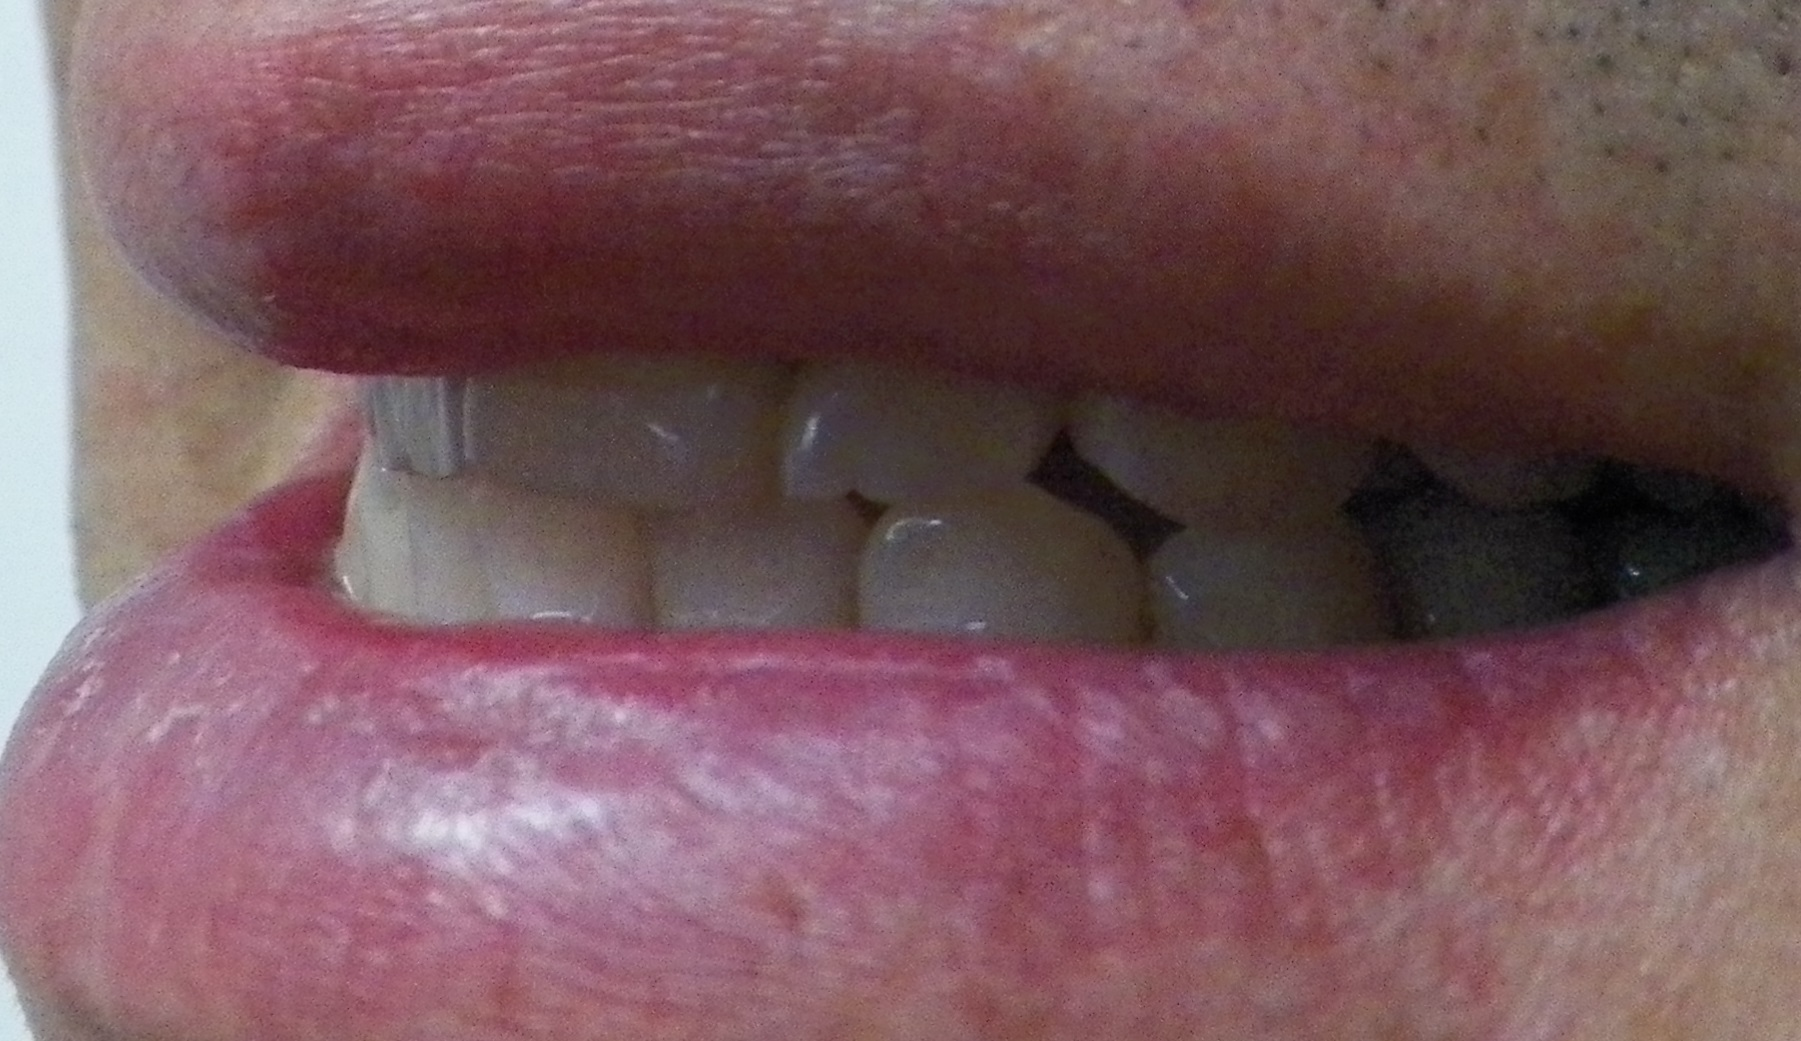boca: (325, 359, 1590, 643)
